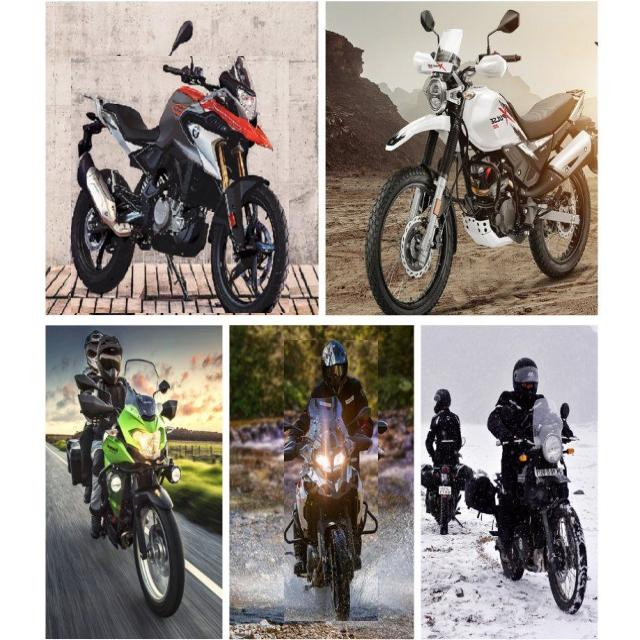motorcycle: (365, 28, 598, 315), (71, 57, 289, 313), (66, 331, 185, 616), (284, 340, 378, 621), (488, 357, 588, 613)
